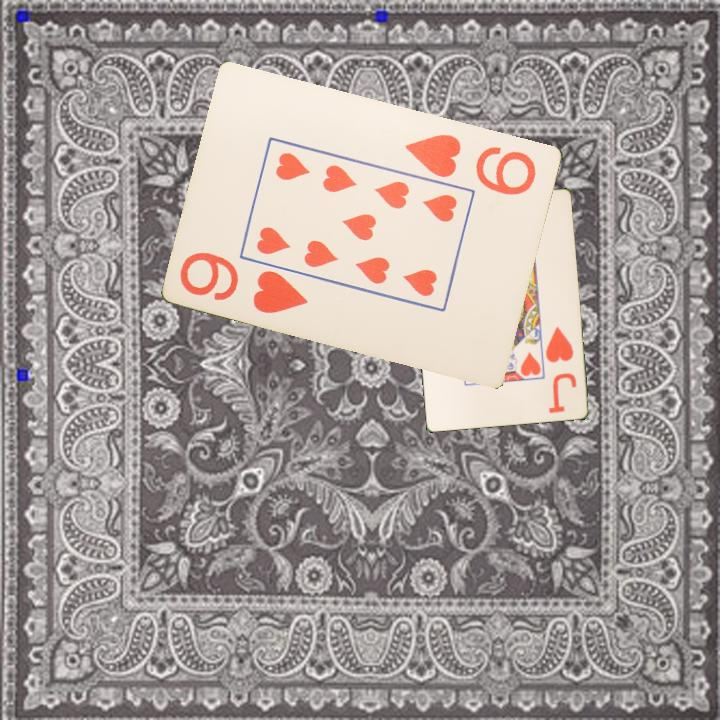9h: (401, 130, 540, 198), (176, 248, 312, 317)
Jh: (542, 323, 576, 365)
